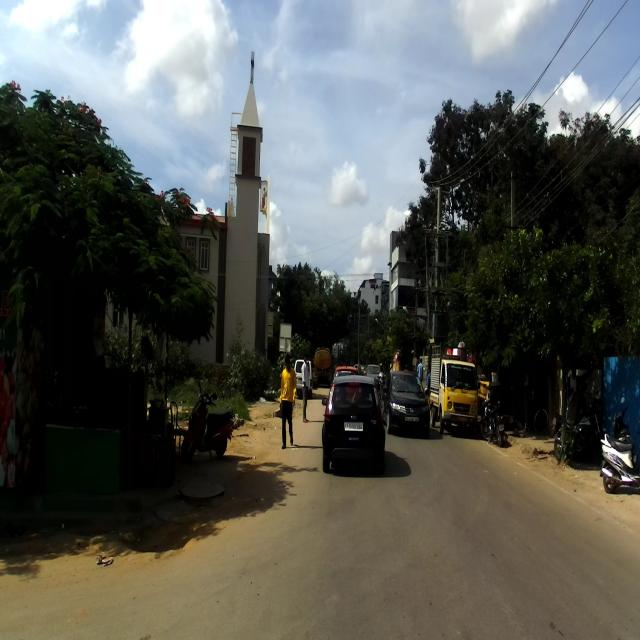car: (322, 374, 386, 473), (387, 370, 430, 438)
motorcycle: (183, 381, 236, 468), (480, 390, 507, 451)
scooter: (598, 428, 639, 494)
truck: (428, 356, 479, 430)
